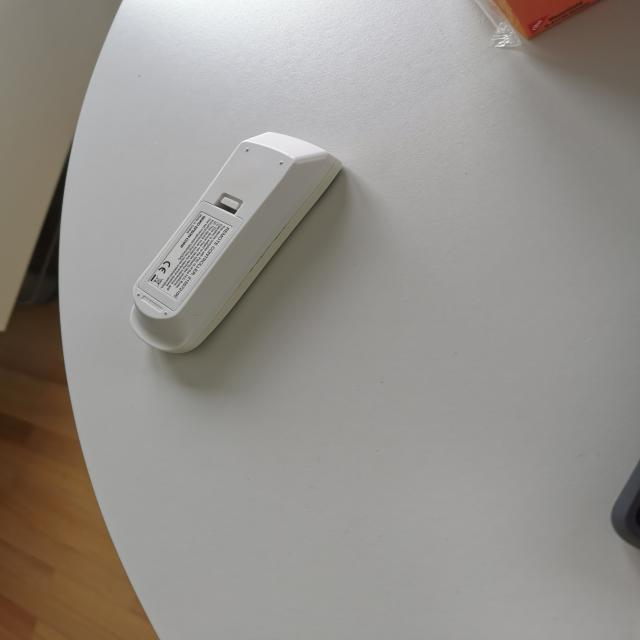remote: (130, 128, 342, 359)
